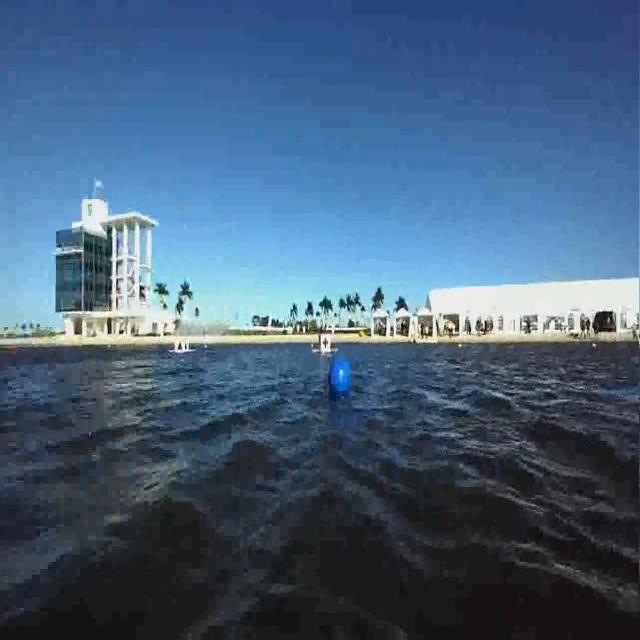blue-buoy: (329, 354, 353, 398)
